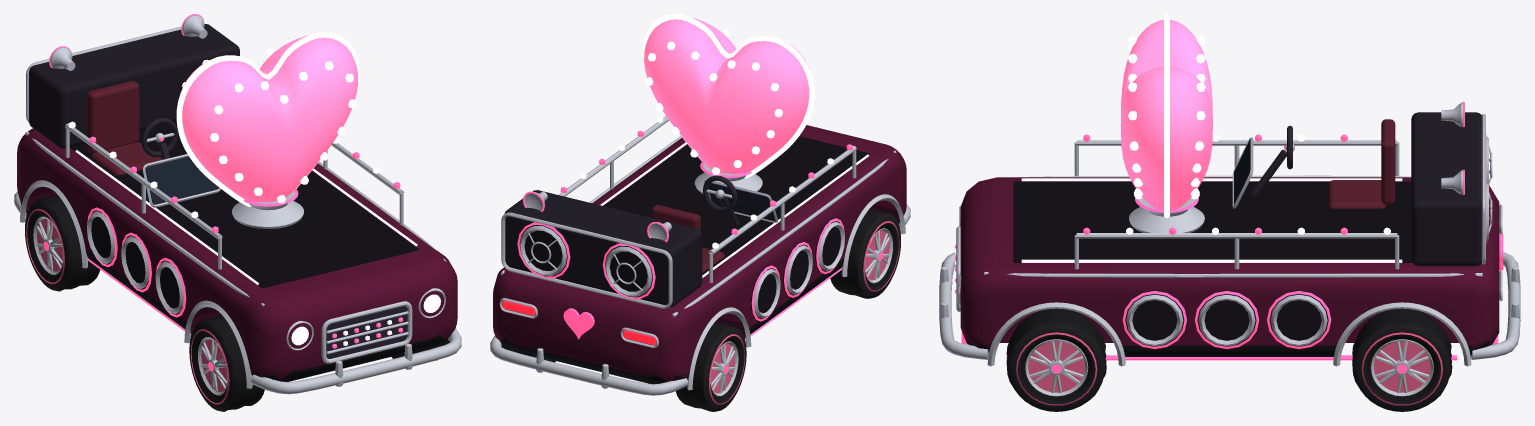
Rendered from bass_valentine.glb.
3 views of the same model, side by side, from view 1: azimuth 30°, elevation 25°; view 2: azimuth 150°, elevation 25°; view 3: azimuth 270°, elevation 25° (orthographic). The views are drawn at different scales.
Visible parts, largest first — view 1: shell, heart_body, deck, sub, seat_back, wheel_RR_tyre, wheel_FR_tyre, bumper_1, heart_led, grille_back, windscreen, cradle (+21 smaller); view 2: shell, heart_body, sub, deck, wheel_FR_tyre, wheel_RR_tyre, bumper_0, heart_led, sub_frame, sub_0_plate, sub_1_plate, shoulder_0 (+22 smaller); view 3: shell, deck, heart_body, sub, wheel_RL_tyre, wheel_FL_tyre, shoulder_1, rail_1, spk_1_0_plate, spk_1_1_plate, spk_1_2_plate, cradle (+26 smaller).
Part boxes in pixels (x1,y1,x2,y2): shell: (17, 128, 457, 381); heart_body: (181, 35, 357, 201); deck: (70, 121, 418, 288); sub: (29, 24, 239, 148); seat_back: (86, 81, 139, 153); wheel_RR_tyre: (25, 194, 99, 291); wheel_FR_tyre: (189, 315, 264, 411); bumper_1: (251, 328, 461, 394); heart_led: (176, 32, 359, 206); grille_back: (326, 306, 407, 358); windscreen: (145, 157, 219, 204); cradle: (232, 190, 303, 228); shell: (493, 125, 906, 384); heart_body: (644, 17, 809, 173); sub: (504, 190, 702, 307); deck: (604, 136, 870, 274); wheel_FR_tyre: (830, 208, 900, 298); wheel_RR_tyre: (675, 322, 746, 411); bumper_0: (490, 336, 687, 395); heart_led: (642, 14, 814, 178); sub_frame: (501, 212, 672, 308); sub_0_plate: (604, 243, 656, 297); sub_1_plate: (519, 225, 570, 276); shoulder_0: (671, 150, 896, 317); shell: (960, 177, 1499, 356); deck: (1013, 181, 1412, 262); heart_body: (1120, 20, 1212, 210); sub: (1411, 112, 1481, 266); wheel_RL_tyre: (1352, 308, 1452, 411); wheel_FL_tyre: (1006, 308, 1106, 411); shoulder_1: (984, 272, 1482, 277); rail_1: (1076, 233, 1397, 238); spk_1_0_plate: (1125, 290, 1184, 346); spk_1_1_plate: (1197, 290, 1256, 346); spk_1_2_plate: (1269, 290, 1328, 346); cradle: (1129, 197, 1204, 232).
Size of the model in its own units: 2.69 by 3.47 by 5.81.
